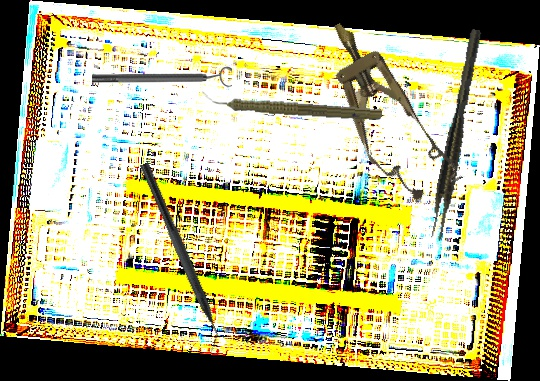Chopper: (127, 162, 230, 355)
Fixation Ring: (92, 66, 232, 89)
Handpiece: (199, 89, 383, 124)
Speculum: (304, 6, 465, 213)
Tissue Forceps: (425, 28, 489, 242)
